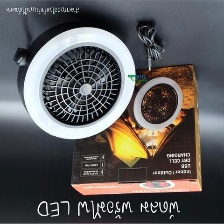book: (66, 59, 206, 200)
